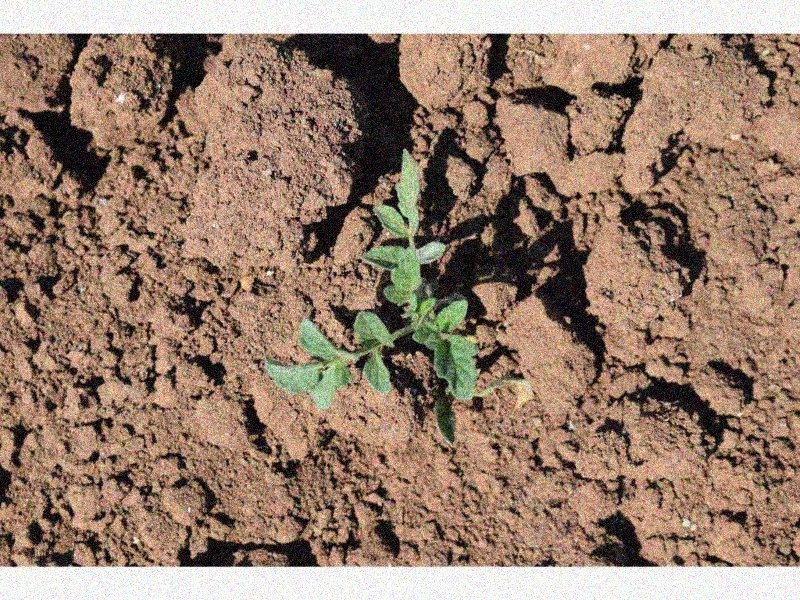tomato: (265, 147, 483, 439)
